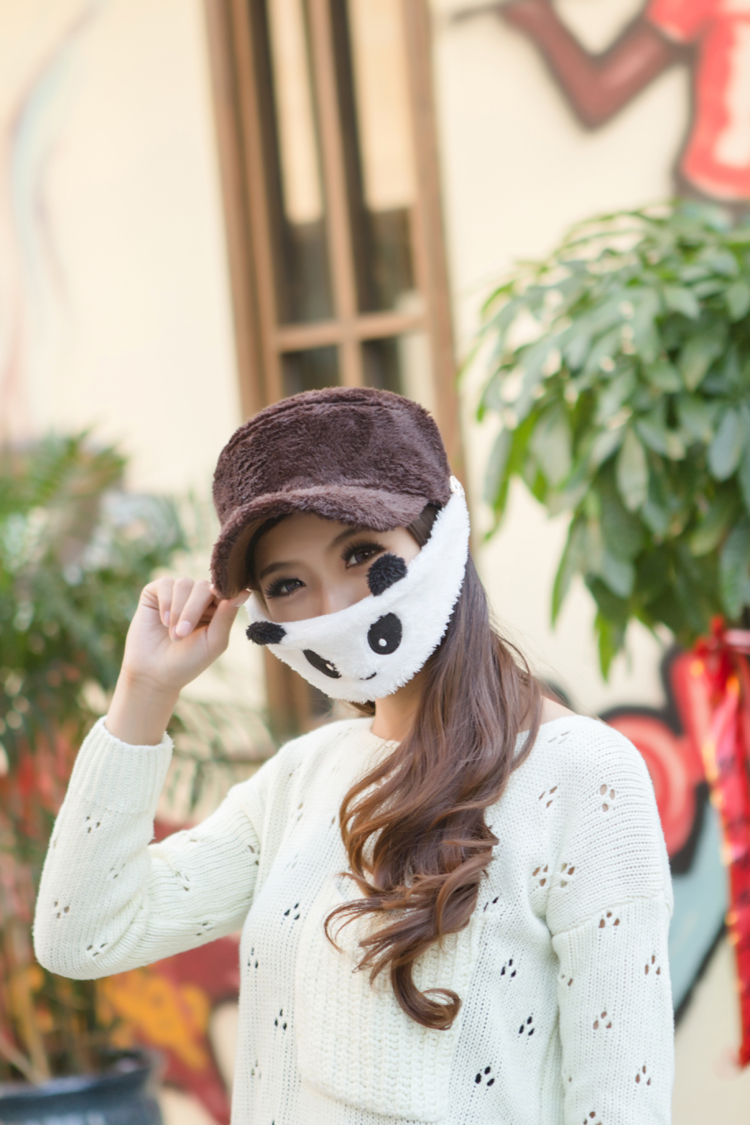face_mask: (255, 480, 424, 688)
